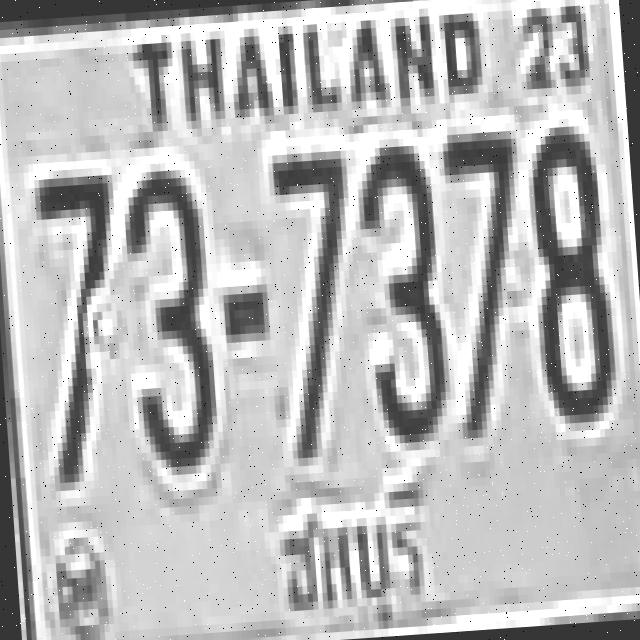3: (116, 160, 215, 470), (354, 136, 448, 436)
7: (28, 166, 128, 484), (266, 142, 361, 458), (436, 122, 531, 430), (28, 166, 125, 444), (28, 166, 120, 380), (266, 142, 354, 355)
8: (522, 116, 616, 416)
Chonburi: (265, 473, 437, 640)
